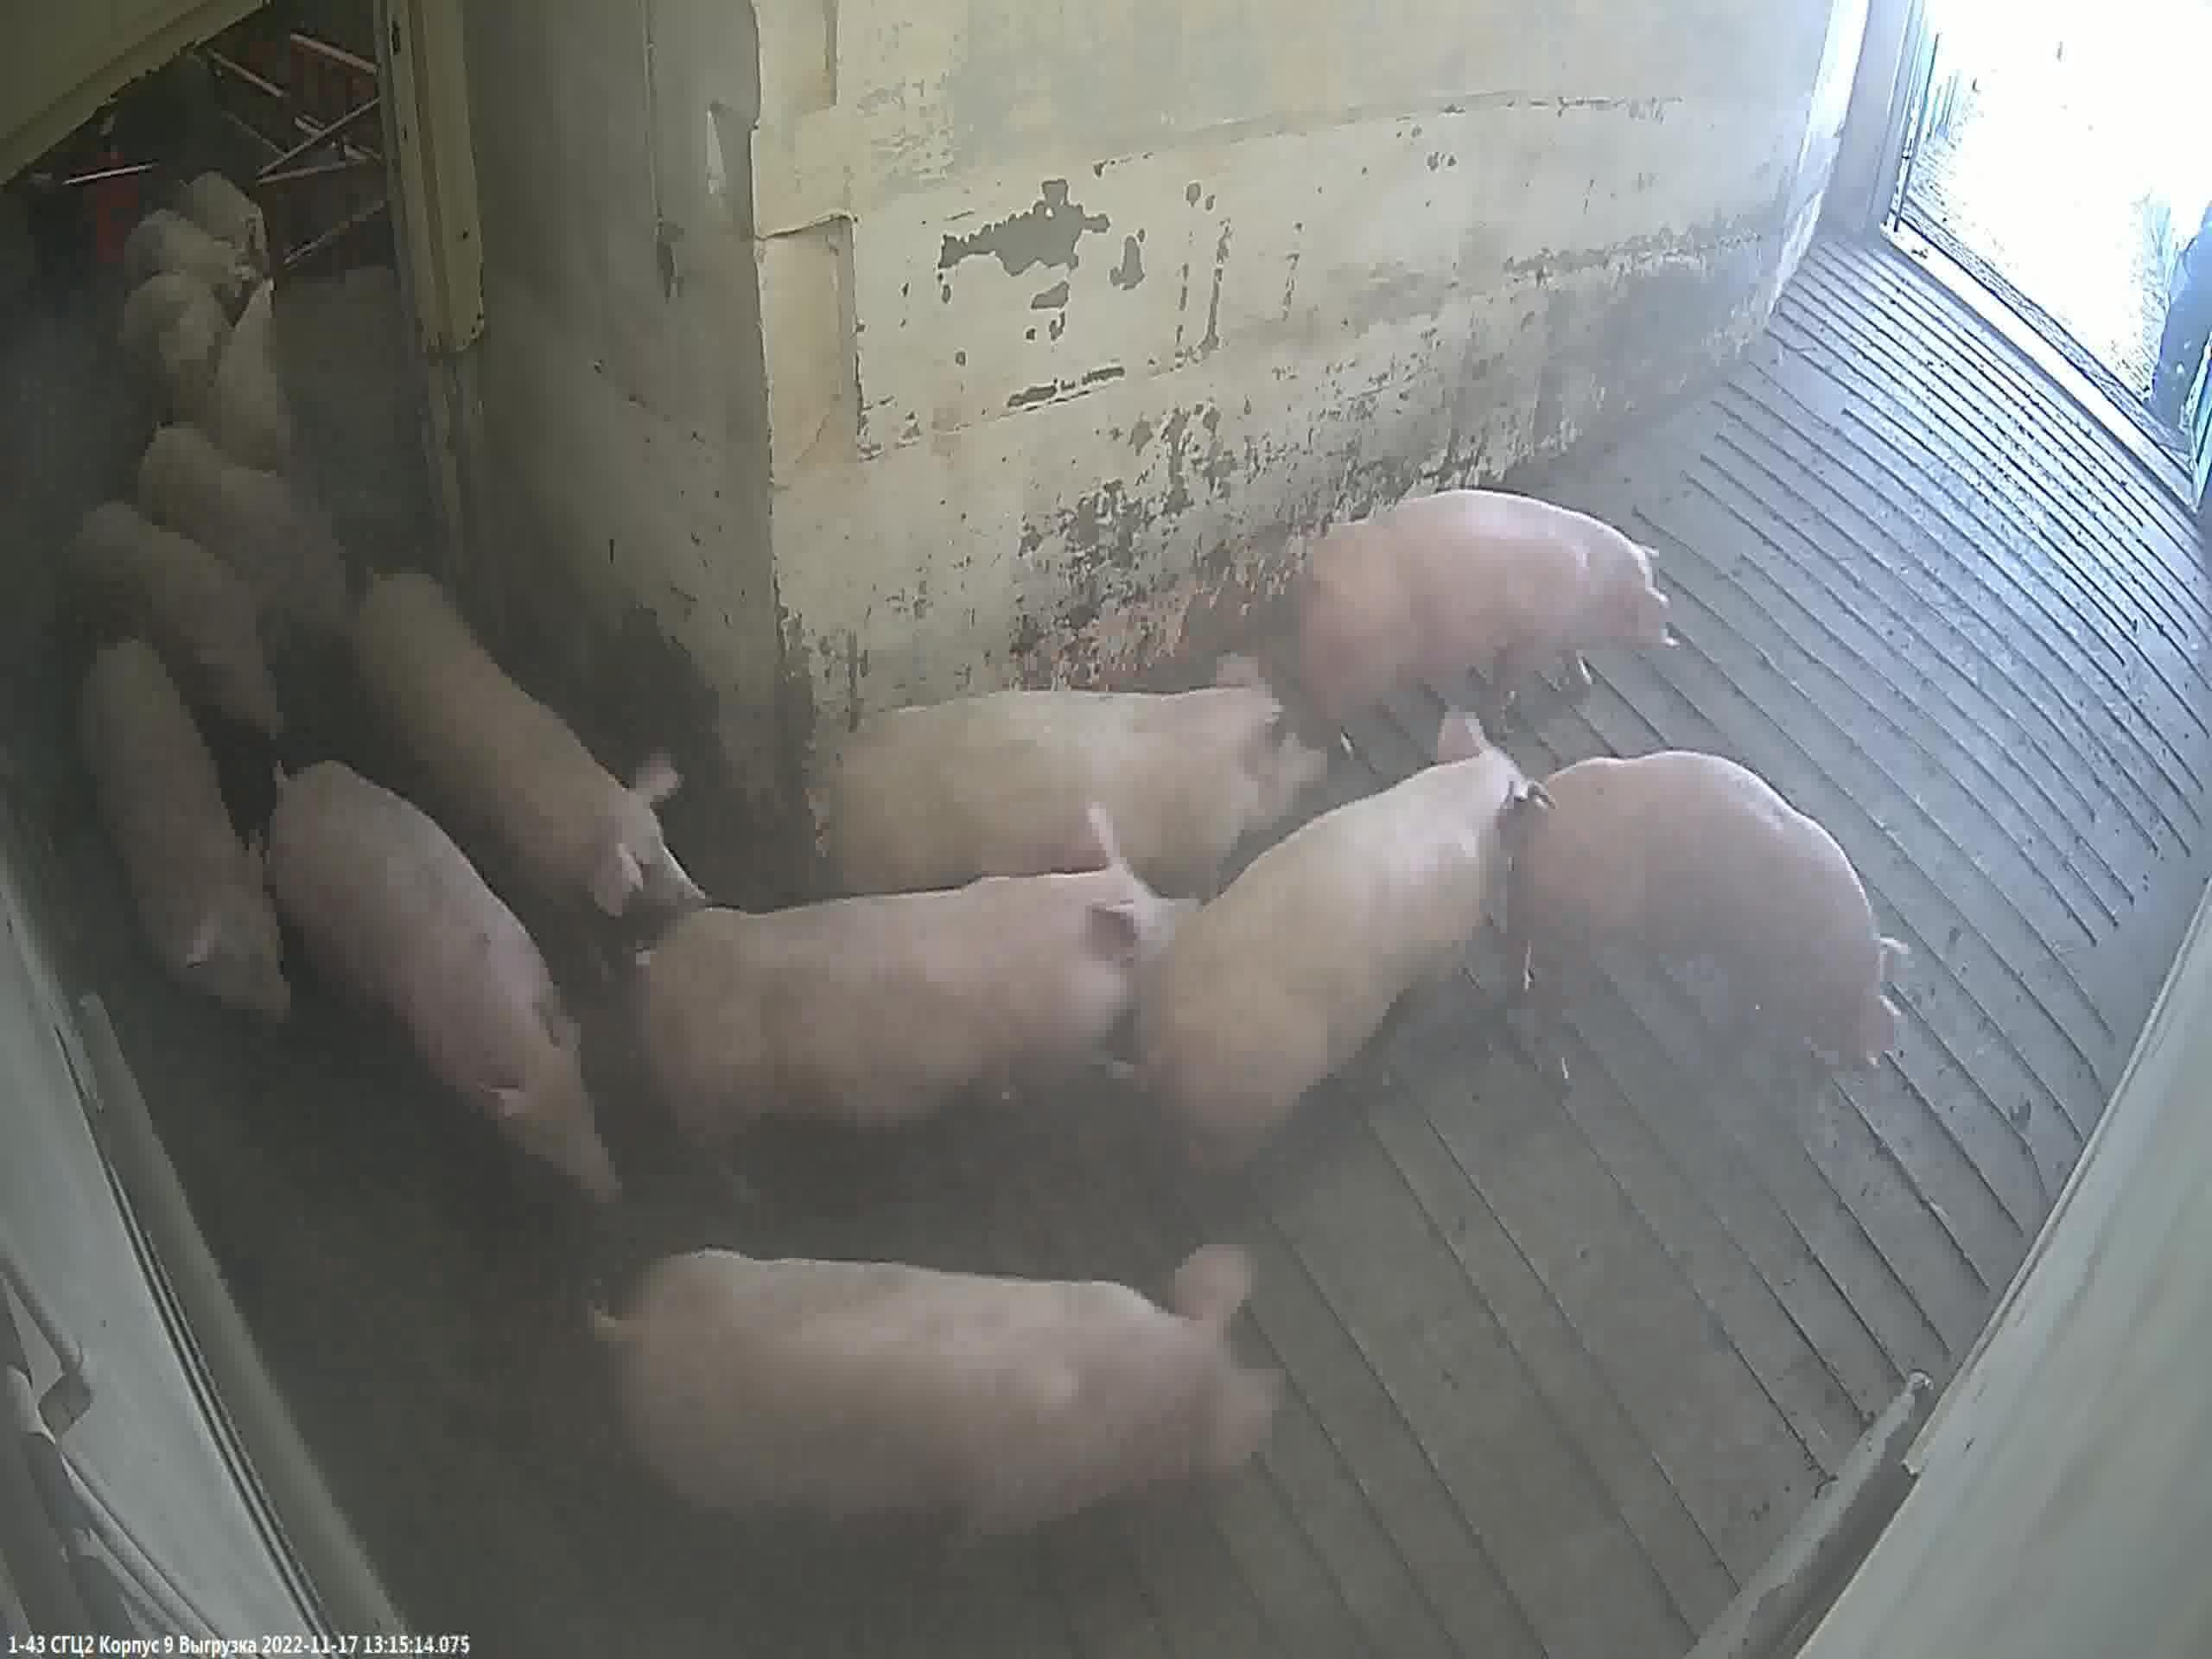Pigs: (592, 1248, 1277, 1563), (1129, 741, 1536, 1262), (643, 863, 1197, 1176), (263, 765, 617, 1208), (350, 573, 705, 948), (827, 666, 1317, 925), (1531, 751, 1893, 1065), (1298, 495, 1667, 779), (75, 640, 294, 1028), (68, 502, 277, 744)
